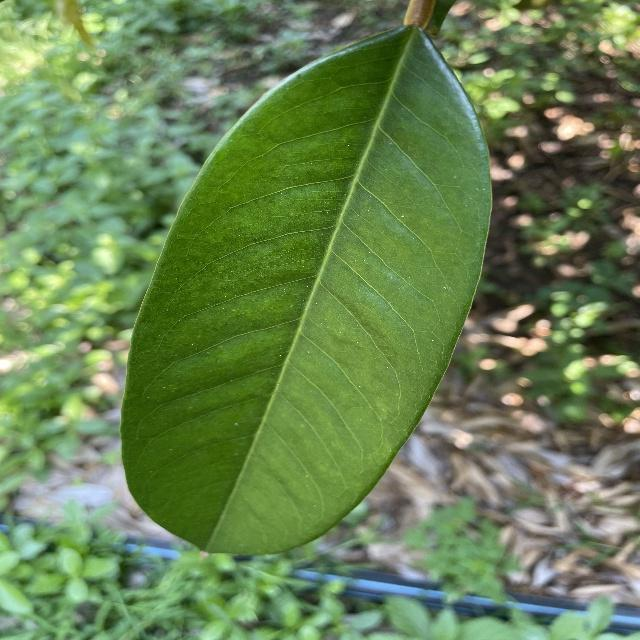No Disease: (107, 17, 505, 569)
